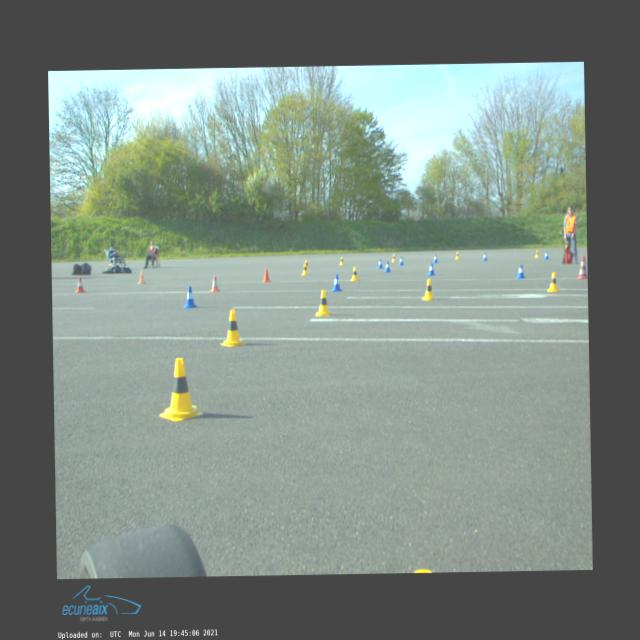blue_cone: (182, 286, 196, 308), (331, 273, 342, 291), (516, 263, 524, 278), (427, 262, 435, 276), (384, 260, 391, 272), (377, 258, 383, 268), (398, 256, 404, 265), (432, 254, 438, 262), (482, 252, 487, 260), (544, 250, 548, 260)
large_orange_cone: (576, 254, 586, 278)
orange_cone: (75, 276, 85, 292), (210, 276, 220, 292), (262, 268, 270, 282)
unknown_cone: (137, 270, 145, 283)
yellow_cone: (158, 358, 202, 420), (220, 309, 244, 346), (314, 290, 330, 316), (421, 278, 434, 300), (547, 272, 559, 292), (350, 266, 358, 281), (301, 263, 308, 275), (391, 253, 396, 261), (305, 258, 309, 268), (339, 256, 344, 264), (534, 249, 539, 257), (455, 250, 459, 258)
